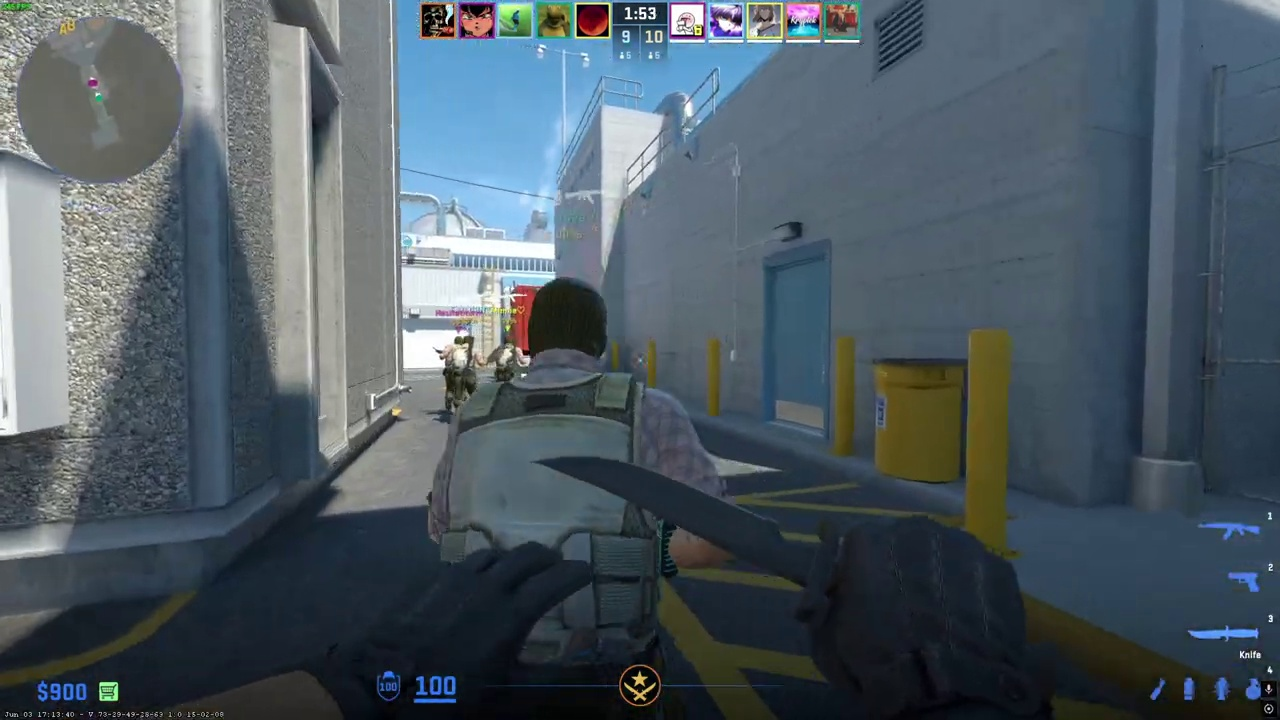Terrorist: (448, 273, 694, 604), (439, 335, 479, 420), (487, 335, 523, 419)
